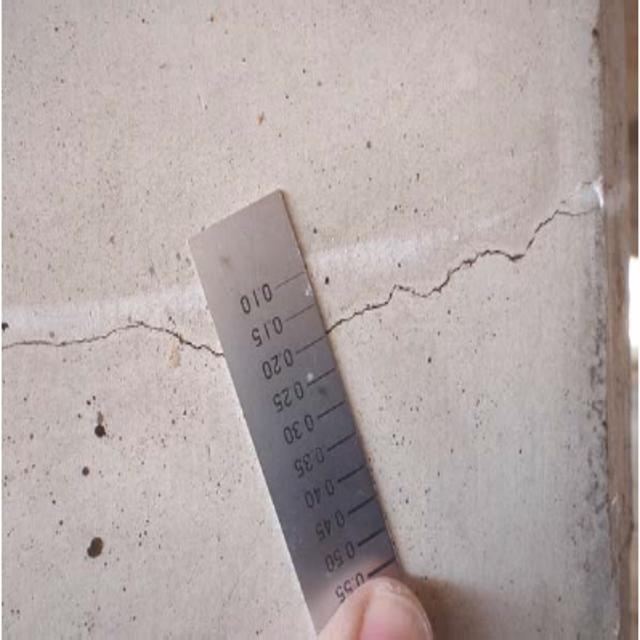crack: (332, 196, 607, 337), (6, 303, 241, 391)
